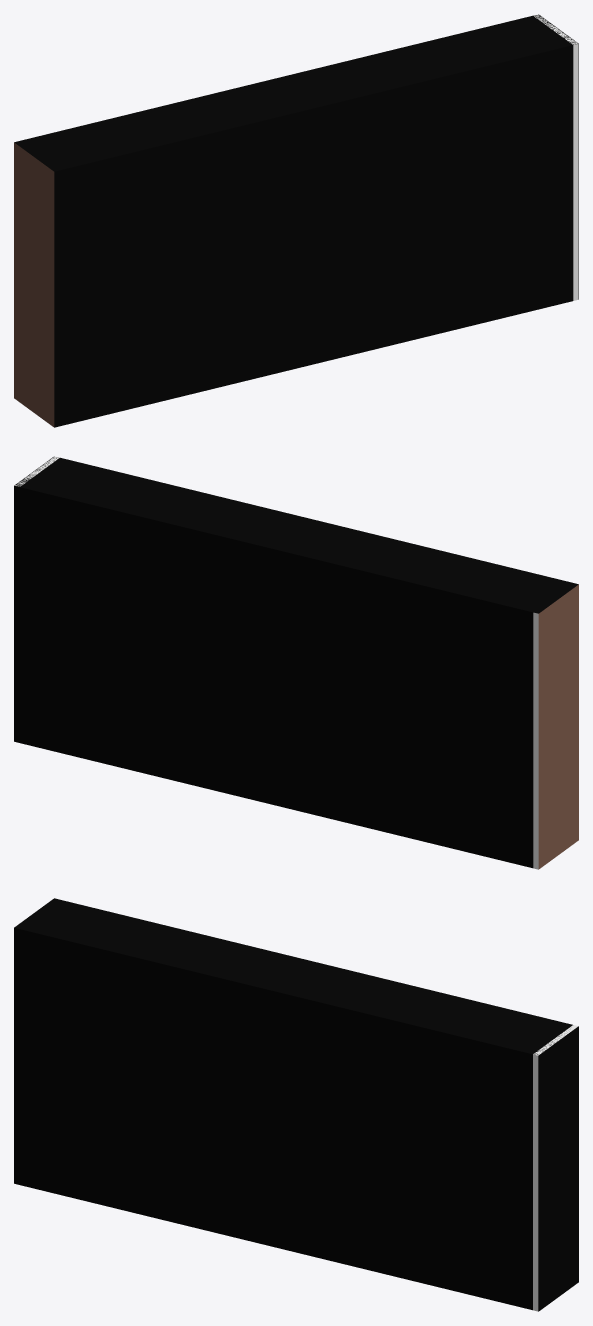
File: storagerack.dae
3 renders of one model, top to bottom at view 1: azimuth 30°, elevation 25°; view 2: azimuth 150°, elevation 25°; view 3: azimuth 330°, elevation 25°, orthographic.
Visible parts, largest first — view 1: Colmesh-1, storagerack_a200, storagerack_a400; view 2: Colmesh-1, storagerack_a200, storagerack_a400; view 3: Colmesh-1, storagerack_a400.
Boxes of the visible parts, x1=… form: Colmesh-1: x1=14, y1=14, x2=578, y2=427; storagerack_a200: x1=14, y1=142, x2=54, y2=427; storagerack_a400: x1=15, y1=14, x2=578, y2=425; Colmesh-1: x1=14, y1=456, x2=578, y2=868; storagerack_a200: x1=533, y1=584, x2=578, y2=869; storagerack_a400: x1=14, y1=456, x2=578, y2=868; Colmesh-1: x1=14, y1=898, x2=578, y2=1311; storagerack_a400: x1=533, y1=1025, x2=578, y2=1311.
Size of the model in its own units: 6.73 by 0.8953 by 3.14.
